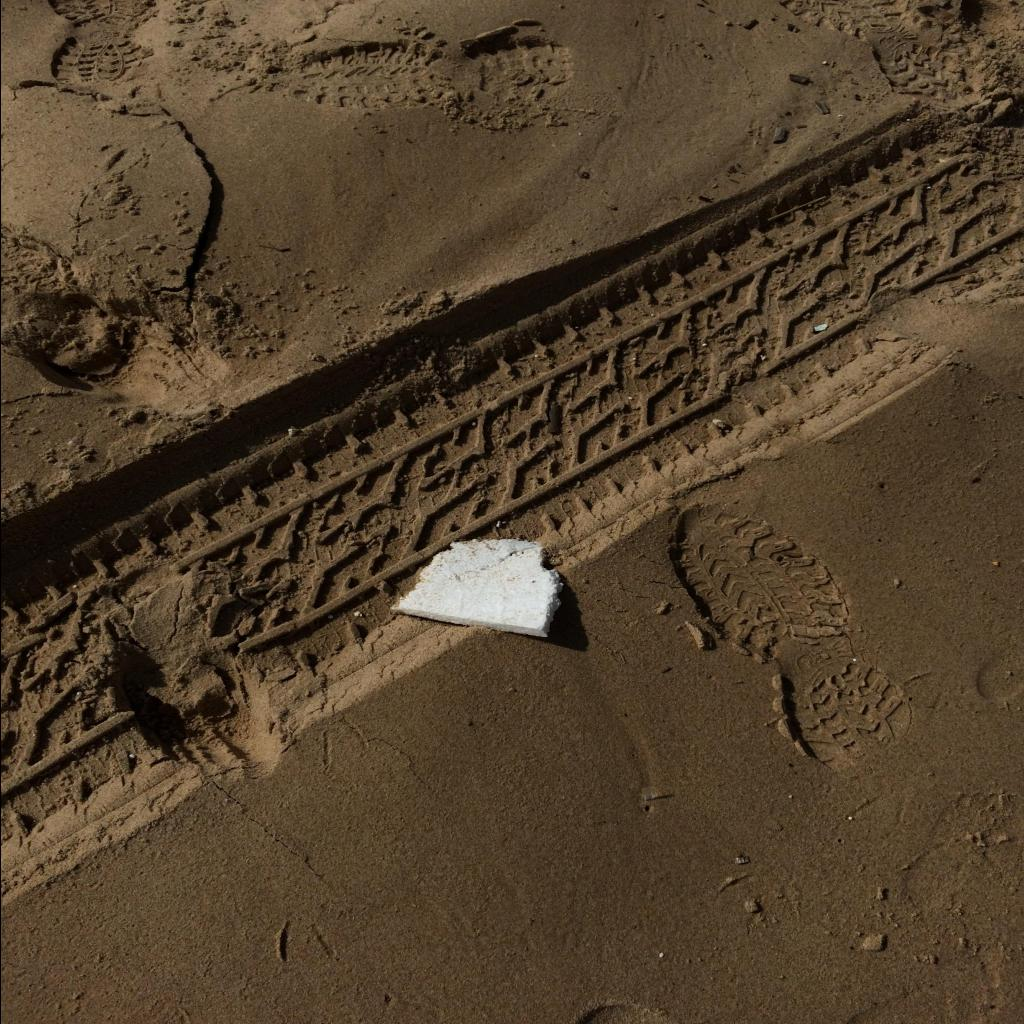Styrofoam piece: (388, 540, 562, 636)
Unlabeled litter: (812, 324, 826, 330)
